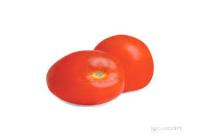tomato: (45, 50, 130, 106), (93, 31, 158, 94)
